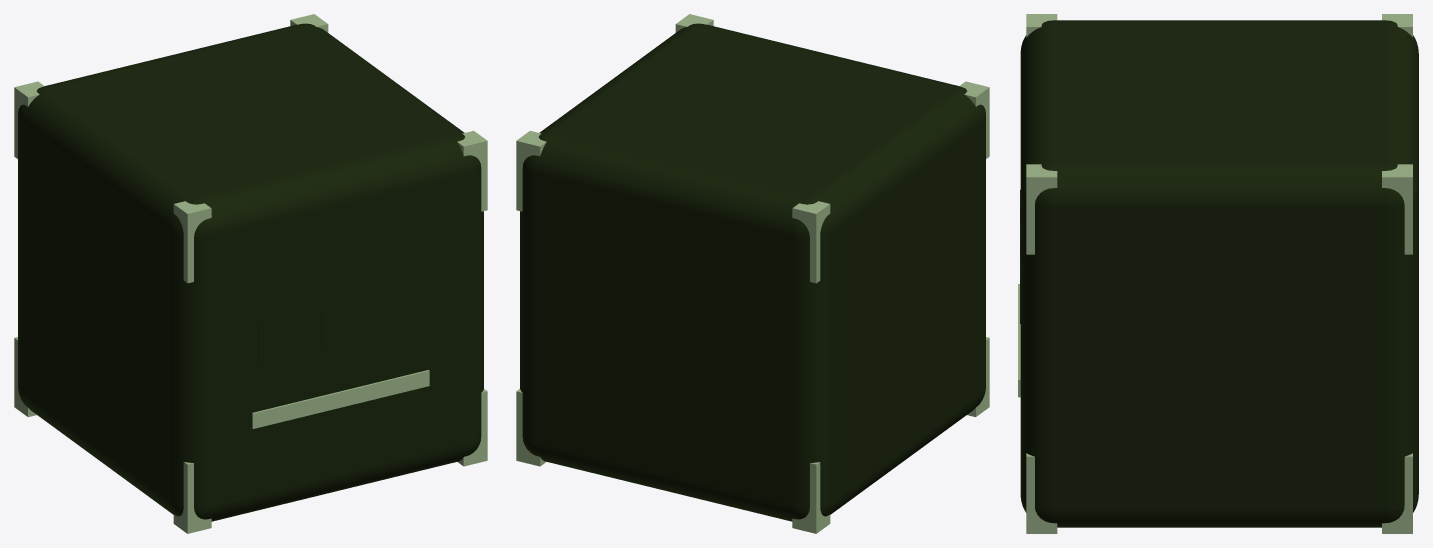
The model's file is company-consumer.glb.
The picture shows the model from 3 angles, left to right: view 1: azimuth 30°, elevation 25°; view 2: azimuth 150°, elevation 25°; view 3: azimuth 270°, elevation 25°; orthographic projection. The views are drawn at different scales.
Size of the model in its own units: 8.4 by 8.4 by 8.45.
